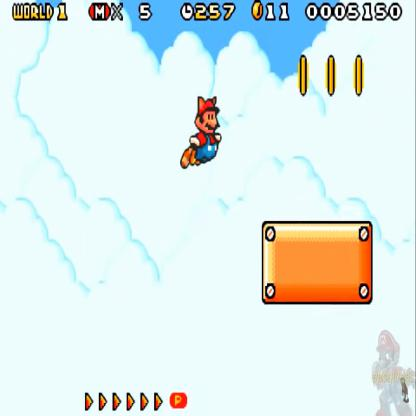Mario: (178, 90, 226, 175)
moneda: (350, 48, 370, 100), (324, 51, 338, 102), (298, 53, 311, 100)
